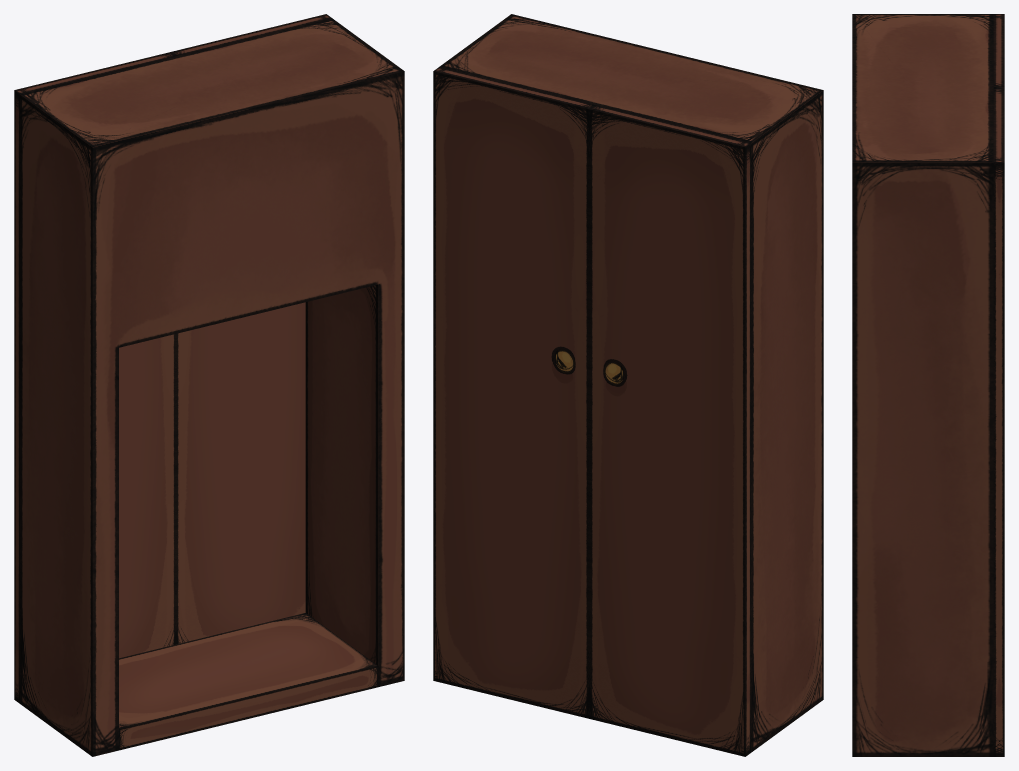
Rendered from wardrobe_room_new.fbx.
The picture shows the model from 3 angles, left to right: view 1: azimuth 30°, elevation 25°; view 2: azimuth 150°, elevation 25°; view 3: azimuth 270°, elevation 25°; orthographic projection. The views are drawn at different scales.
Visible parts, largest first — view 1: wardrobe_new, wardrobe_new_door_r.002, wardrobe_new_door_r, wardrobe_bottom; view 2: wardrobe_new_door_r, wardrobe_new_door_r.002, wardrobe_new; view 3: wardrobe_new, wardrobe_new_door_r.002, wardrobe_new_door_r.
Part boxes in pixels (x1=…): wardrobe_new: x1=20, y1=18, x2=404, y2=756; wardrobe_new_door_r.002: x1=171, y1=14, x2=331, y2=644; wardrobe_new_door_r: x1=14, y1=52, x2=175, y2=703; wardrobe_bottom: x1=119, y1=613, x2=378, y2=750; wardrobe_new_door_r: x1=589, y1=105, x2=750, y2=756; wardrobe_new_door_r.002: x1=433, y1=67, x2=594, y2=718; wardrobe_new: x1=439, y1=14, x2=823, y2=752; wardrobe_new: x1=852, y1=14, x2=993, y2=756; wardrobe_new_door_r.002: x1=993, y1=88, x2=1004, y2=756; wardrobe_new_door_r: x1=993, y1=14, x2=1004, y2=88.
Size of the model in its own units: 1.81 by 3.38 by 0.7848.
Materials: 4 (3 with a texture image).
